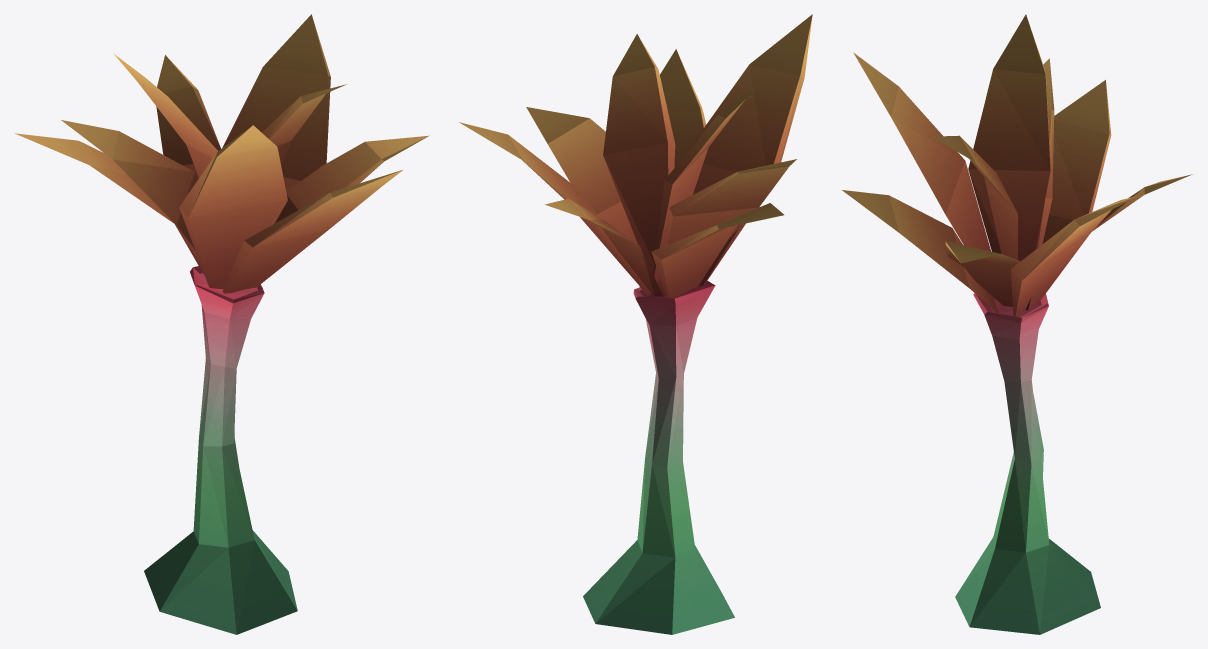
The model's file is tree1.obj.
The picture shows the model from 3 angles, left to right: view 1: azimuth 30°, elevation 25°; view 2: azimuth 150°, elevation 25°; view 3: azimuth 270°, elevation 25°; orthographic projection. The views are drawn at different scales.
Visible parts, largest first — view 1: Lush_plant; view 2: Lush_plant; view 3: Lush_plant.
Boxes of the visible parts, <box> form: Lush_plant: <box>15,14,429,634</box>; Lush_plant: <box>459,14,812,634</box>; Lush_plant: <box>842,14,1192,634</box>.
Bounding box in the file's own units: 1050 × 1701 × 999.
1 material, 1 textured.
